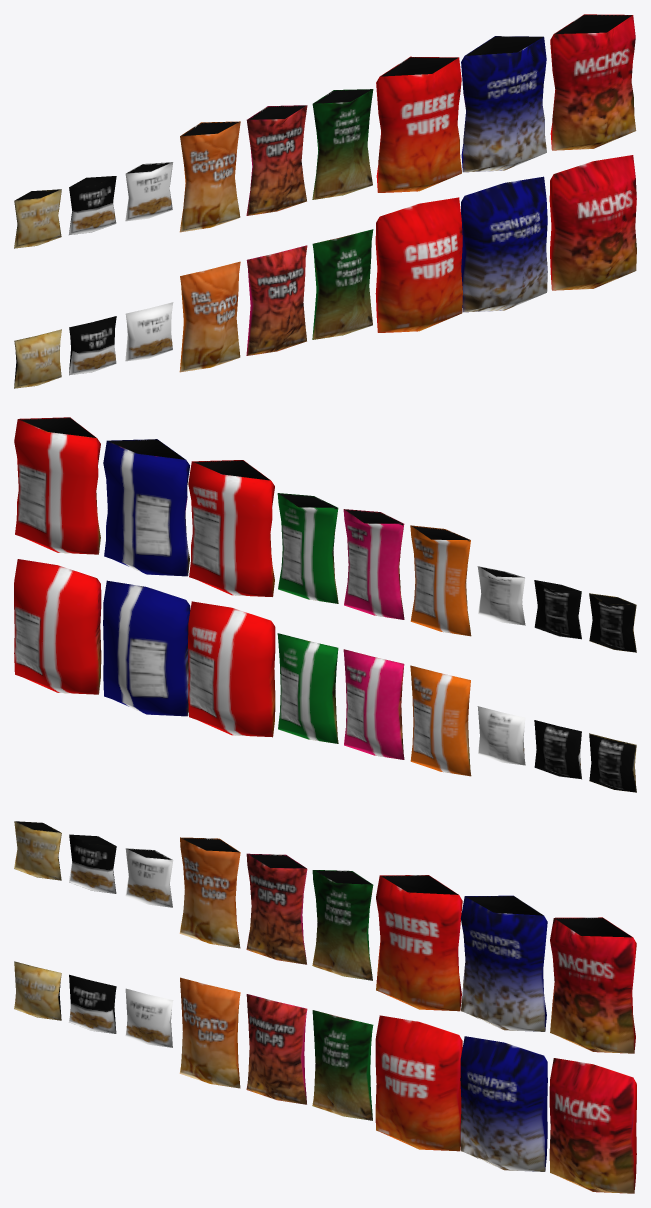
Rendered from low_poly_potato_chip_model_pack.glb.
3 renders of one model, top to bottom at view 1: azimuth 30°, elevation 25°; view 2: azimuth 150°, elevation 25°; view 3: azimuth 330°, elevation 25°, orthographic.
Parts seen in each view (by area): view 1: Large_C, Large_A, Large_B, Large_Open_C, Large_Open_B, Large_Open_A, Medium_Open_C, Medium_Open_A, Medium_Open_B, Medium_C, Medium_B, Medium_A (+6 smaller); view 2: Large_A, Large_C, Large_Open_C, Large_Open_A, Large_Open_B, Large_B, Medium_A, Medium_C, Medium_B, Medium_Open_B, Medium_Open_C, Medium_Open_A (+6 smaller); view 3: Large_B, Large_C, Large_Open_C, Large_Open_B, Large_Open_A, Large_A, Medium_Open_A, Medium_Open_B, Medium_Open_C, Medium_A, Medium_C, Medium_B (+6 smaller).
Boxes of the visible parts, left/top/right/bottom form: Large_C: left=549, top=155, right=636, bottom=290; Large_A: left=375, top=197, right=462, bottom=332; Large_B: left=461, top=176, right=547, bottom=312; Large_Open_C: left=550, top=14, right=636, bottom=150; Large_Open_B: left=461, top=36, right=546, bottom=172; Large_Open_A: left=376, top=56, right=461, bottom=192; Medium_Open_C: left=312, top=89, right=373, bottom=199; Medium_Open_A: left=179, top=121, right=240, bottom=232; Medium_Open_B: left=246, top=105, right=307, bottom=215; Medium_C: left=312, top=229, right=373, bottom=339; Medium_B: left=246, top=245, right=307, bottom=355; Medium_A: left=179, top=261, right=240, bottom=372; Large_A: left=188, top=601, right=275, bottom=737; Large_C: left=14, top=559, right=101, bottom=694; Large_Open_C: left=14, top=417, right=100, bottom=554; Large_Open_A: left=188, top=460, right=274, bottom=596; Large_Open_B: left=103, top=439, right=189, bottom=576; Large_B: left=103, top=580, right=190, bottom=716; Medium_A: left=410, top=665, right=471, bottom=776; Medium_C: left=277, top=633, right=338, bottom=743; Medium_B: left=343, top=649, right=404, bottom=759; Medium_Open_B: left=343, top=509, right=404, bottom=619; Medium_Open_C: left=277, top=493, right=338, bottom=603; Medium_Open_A: left=410, top=525, right=471, bottom=636; Large_B: left=460, top=1036, right=547, bottom=1171; Large_C: left=549, top=1058, right=636, bottom=1193; Large_Open_C: left=550, top=917, right=636, bottom=1053; Large_Open_B: left=460, top=895, right=547, bottom=1031; Large_Open_A: left=376, top=875, right=462, bottom=1011; Large_A: left=375, top=1015, right=462, bottom=1151; Medium_Open_A: left=179, top=837, right=240, bottom=948; Medium_Open_B: left=246, top=853, right=307, bottom=964; Medium_Open_C: left=312, top=870, right=373, bottom=980; Medium_A: left=179, top=977, right=240, bottom=1088; Medium_C: left=312, top=1010, right=373, bottom=1120; Medium_B: left=246, top=994, right=307, bottom=1104.
Size of the model in its own units: 1.63 by 0.6725 by 0.1645.
1 material, 1 textured.
